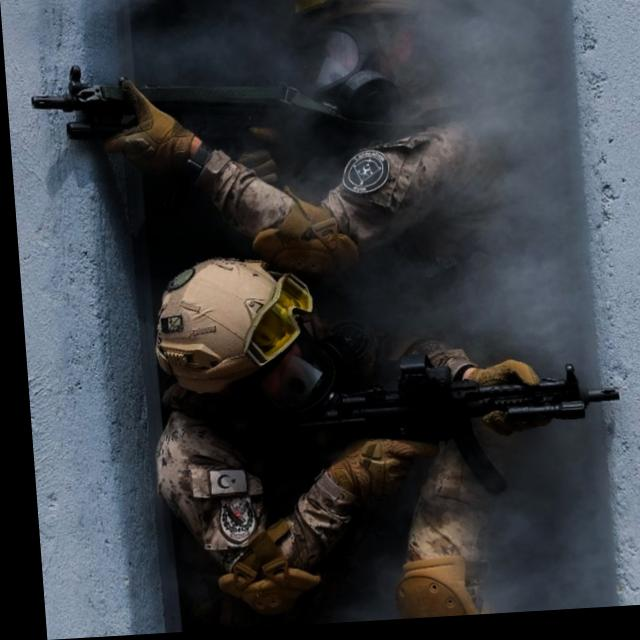poh_personel: (93, 0, 584, 636), (135, 245, 549, 634)
